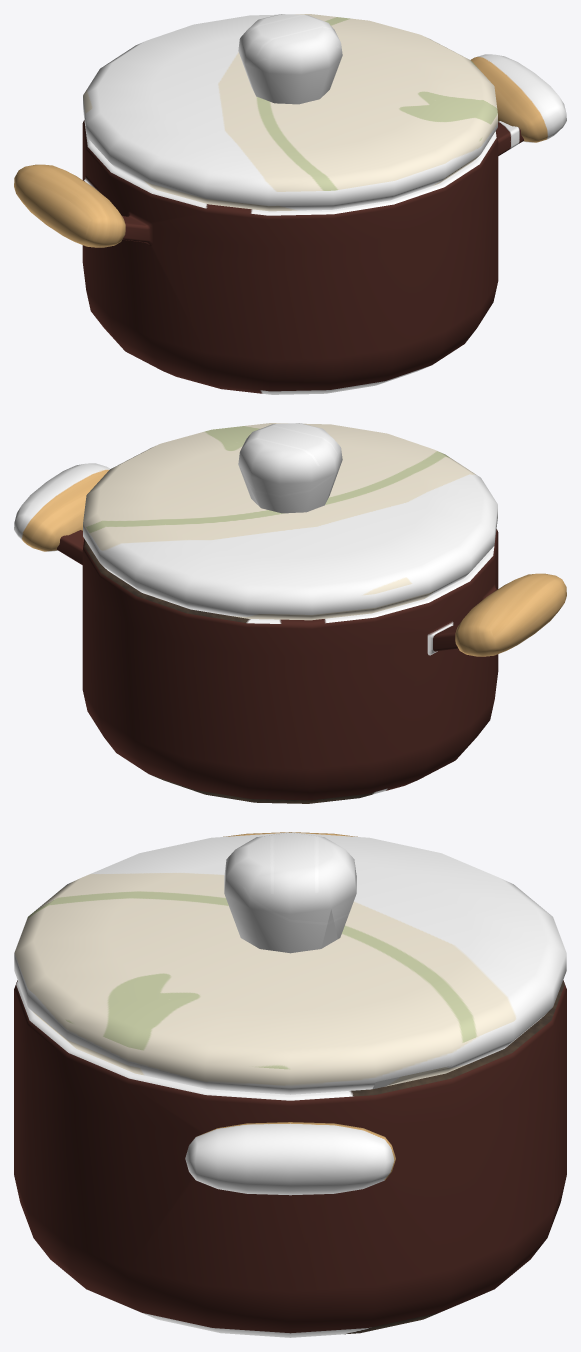
The model's file is Pot.fbx.
3 renders of one model, top to bottom at view 1: azimuth 30°, elevation 25°; view 2: azimuth 150°, elevation 25°; view 3: azimuth 270°, elevation 25°, orthographic. The views are drawn at different scales.
Visible parts, largest first — view 1: Pot, Lid; view 2: Pot, Lid; view 3: Pot, Lid.
Boxes of the visible parts, x1=… form: Pot: x1=14, y1=54, x2=566, y2=394; Lid: x1=83, y1=14, x2=497, y2=211; Pot: x1=14, y1=463, x2=566, y2=803; Lid: x1=83, y1=423, x2=497, y2=620; Pot: x1=14, y1=832, x2=566, y2=1337; Lid: x1=14, y1=832, x2=566, y2=1094.
Bounding box in the file's own units: 283 × 162 × 204.
